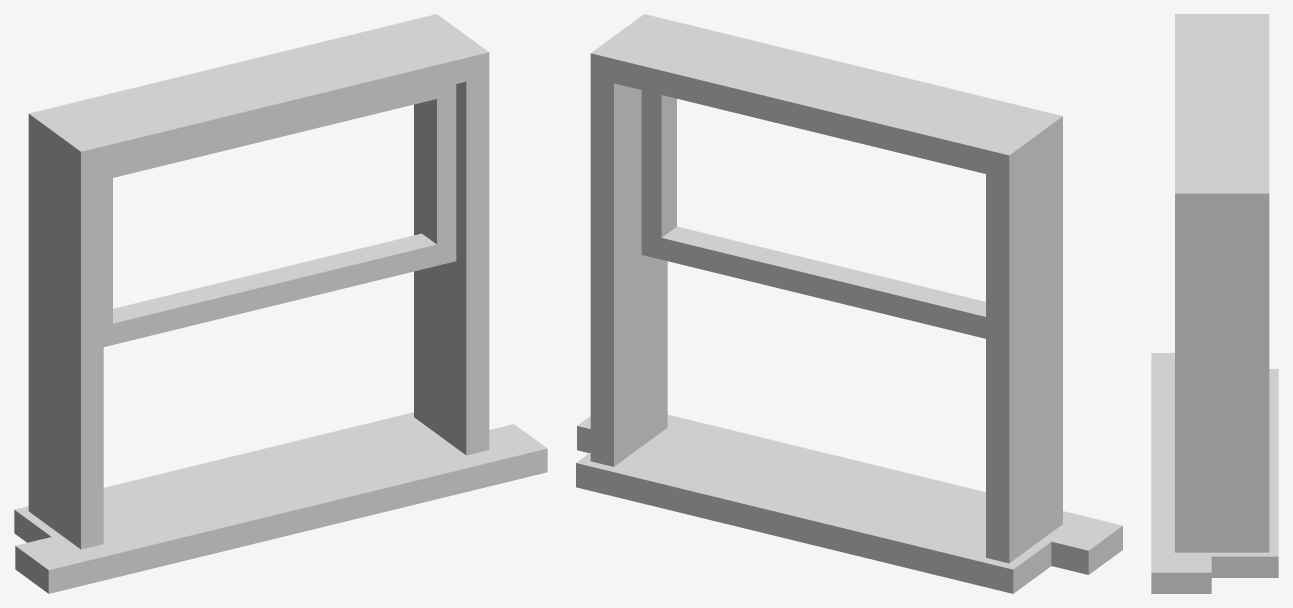
Rendered from Window3_04.fbx.
3 views of the same model, side by side, from view 1: azimuth 30°, elevation 25°; view 2: azimuth 150°, elevation 25°; view 3: azimuth 270°, elevation 25° (orthographic). The views are drawn at different scales.
Parts seen in each view (by area): view 1: Window3_04; view 2: Window3_04; view 3: Window3_04.
Boxes of the visible parts, x1,y1,x2,y2 form: Window3_04: [14, 14, 547, 593]; Window3_04: [576, 14, 1122, 593]; Window3_04: [1151, 14, 1278, 593].
Size of the model in its own units: 110 by 88.81 by 27.
